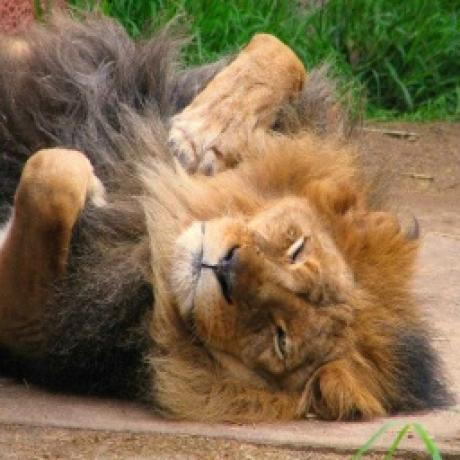Lion: (0, 9, 453, 424)
